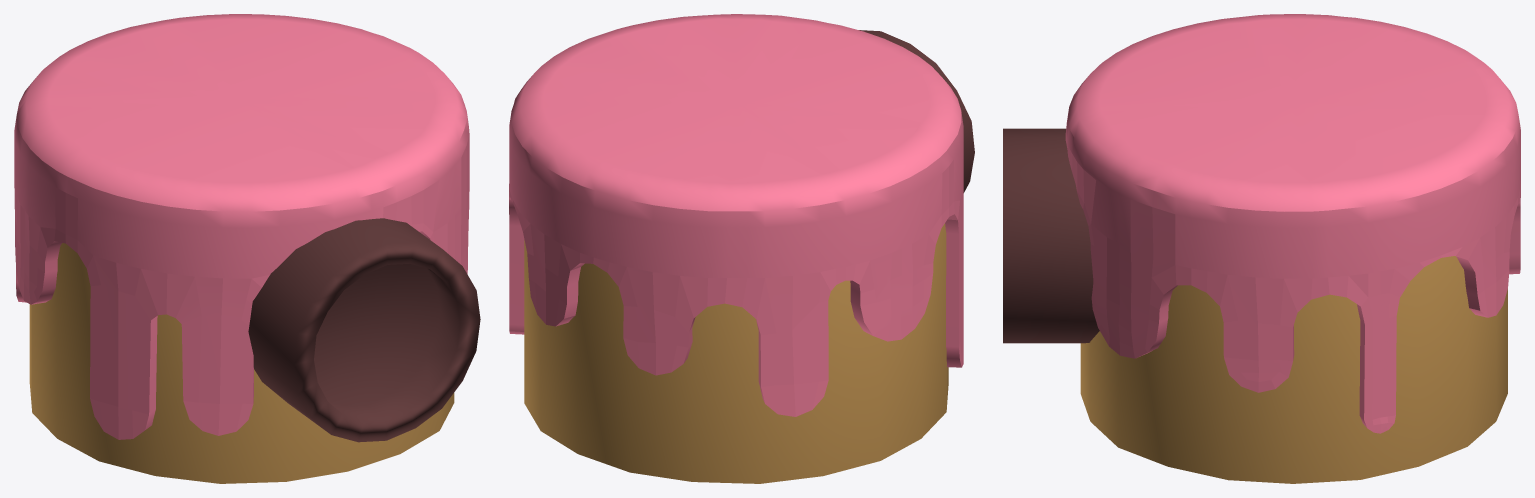
Rendered from Shooter_1.fbx.
The picture shows the model from 3 angles, left to right: view 1: azimuth 30°, elevation 25°; view 2: azimuth 150°, elevation 25°; view 3: azimuth 270°, elevation 25°; orthographic projection.
Visible parts, largest first — view 1: Shooter_1; view 2: Shooter_1; view 3: Shooter_1.
Boxes of the visible parts, left/top/right/bottom form: Shooter_1: left=14, top=14, right=480, bottom=483; Shooter_1: left=509, top=14, right=974, bottom=483; Shooter_1: left=1003, top=14, right=1520, bottom=483.
Size of the model in its own units: 400 by 285 by 455.
